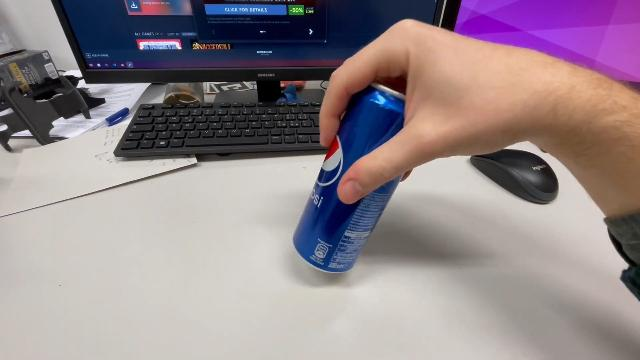Pepsi: (288, 75, 410, 274)
